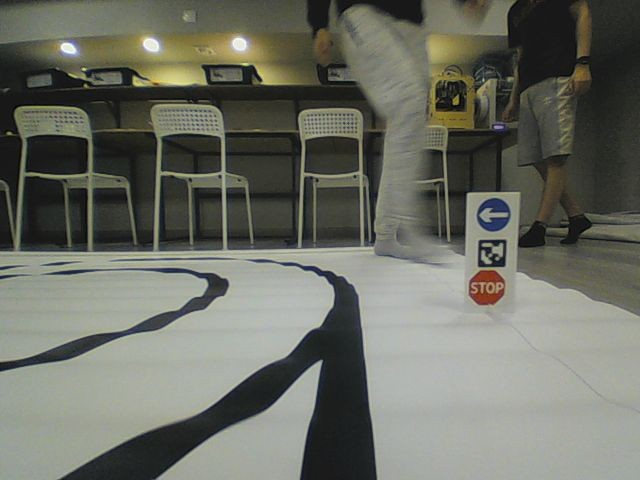Stop: (465, 269, 507, 307)
